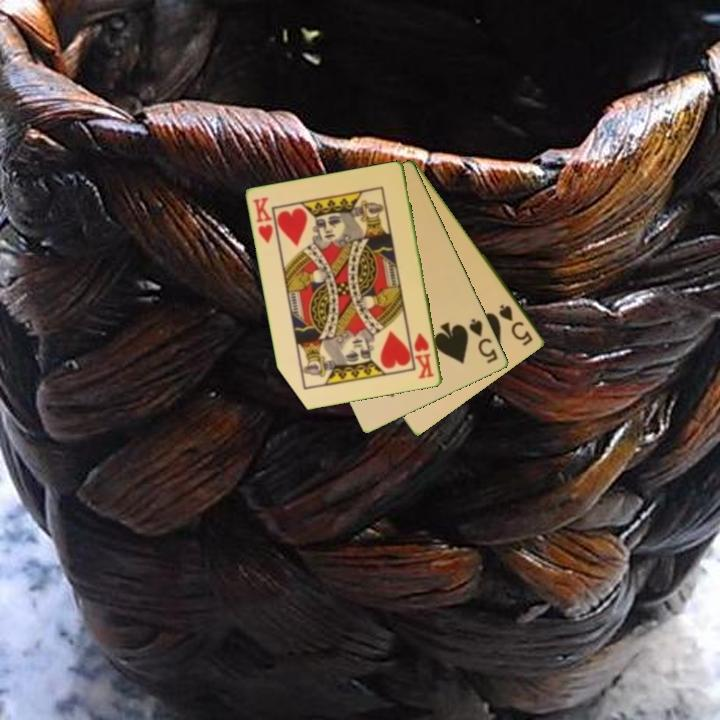5s: (495, 301, 536, 349), (466, 315, 501, 367)
Kh: (411, 330, 437, 382), (250, 194, 276, 246)
